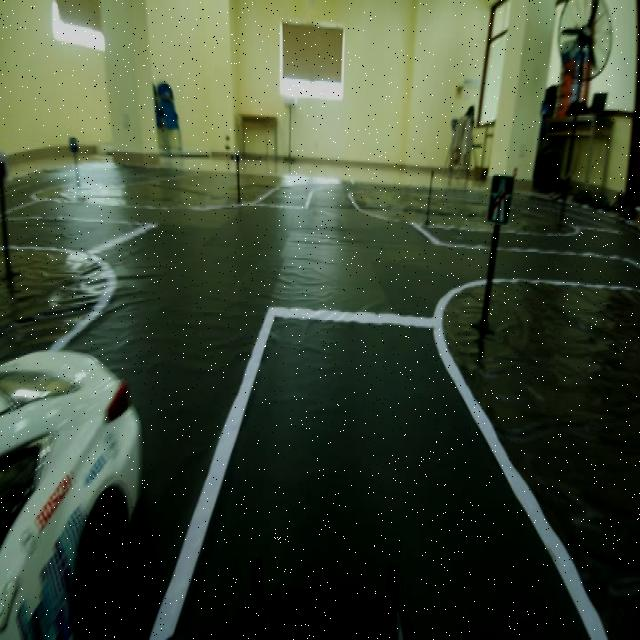car: (1, 330, 141, 638)
highway_exit: (482, 165, 518, 237)
